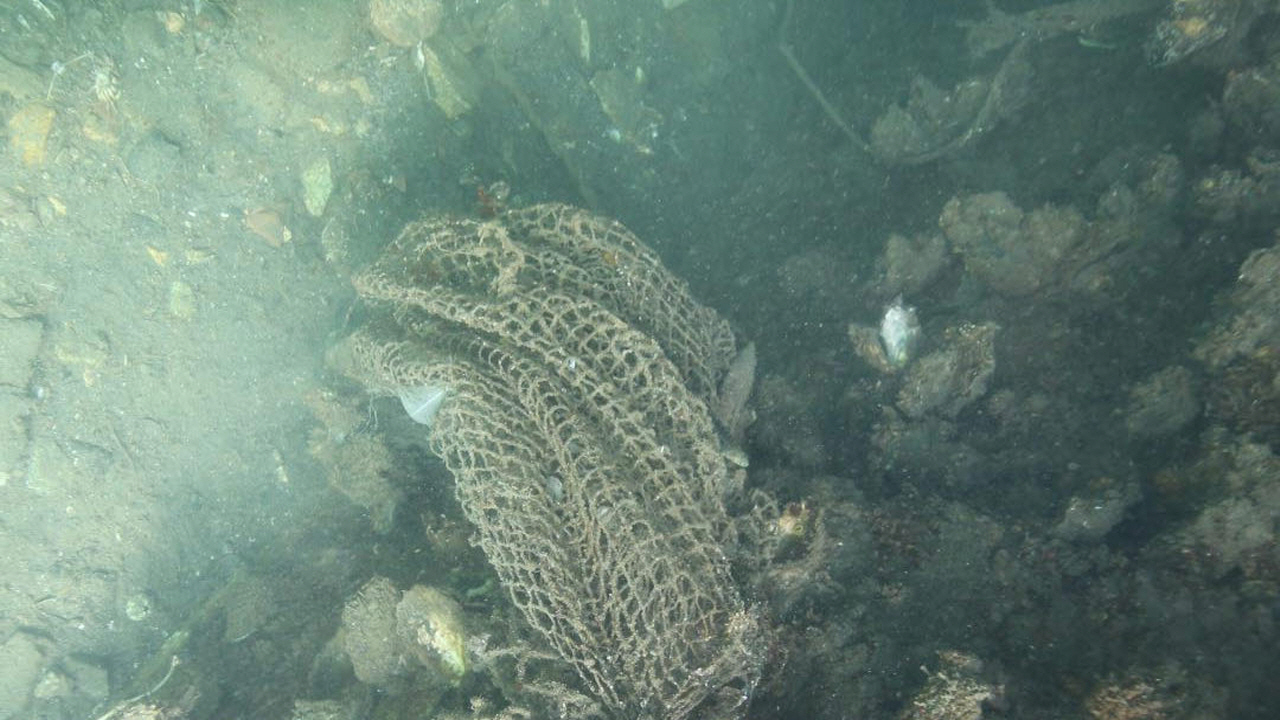fish net: (348, 200, 780, 720)
